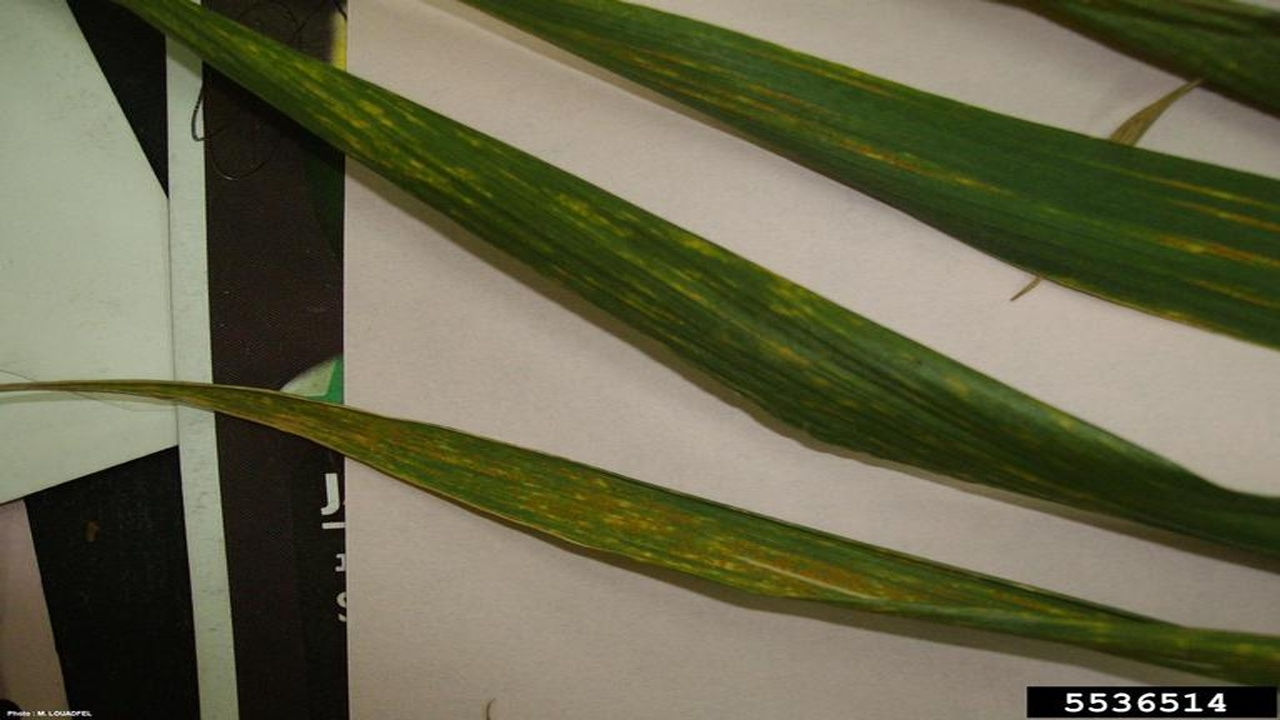stripe_rust: (118, 2, 1038, 502), (5, 381, 1256, 683), (463, 1, 1280, 351)
